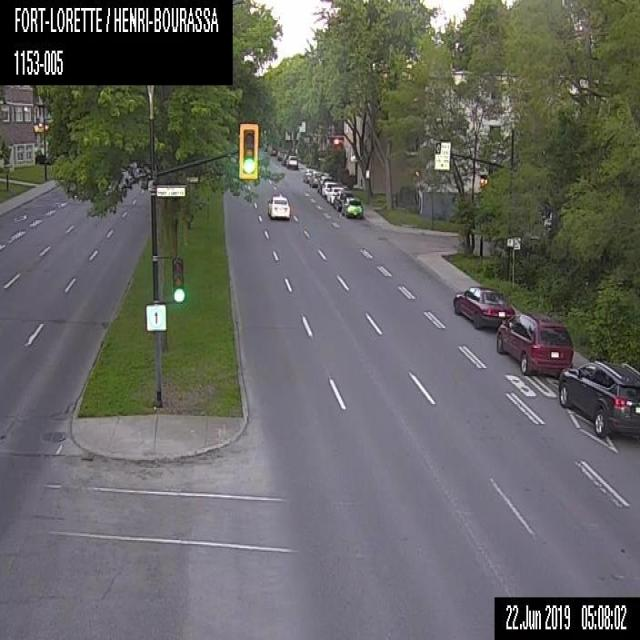vehicle: (560, 361, 639, 440), (496, 309, 574, 373), (453, 284, 516, 332), (266, 192, 291, 220), (341, 197, 364, 217), (332, 190, 353, 210), (322, 180, 342, 199), (326, 185, 345, 203), (318, 174, 332, 193), (308, 171, 324, 187), (303, 167, 317, 182), (286, 154, 298, 170), (276, 149, 288, 160), (281, 153, 292, 164), (268, 145, 276, 154)
